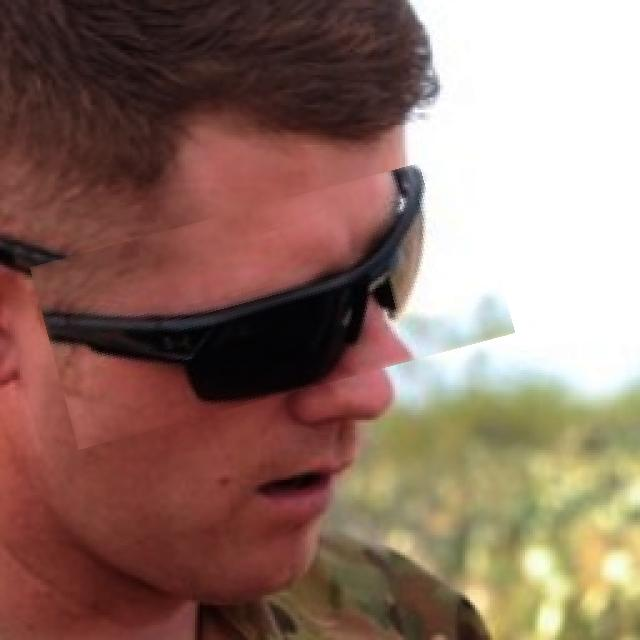glasses: (39, 178, 507, 421)
